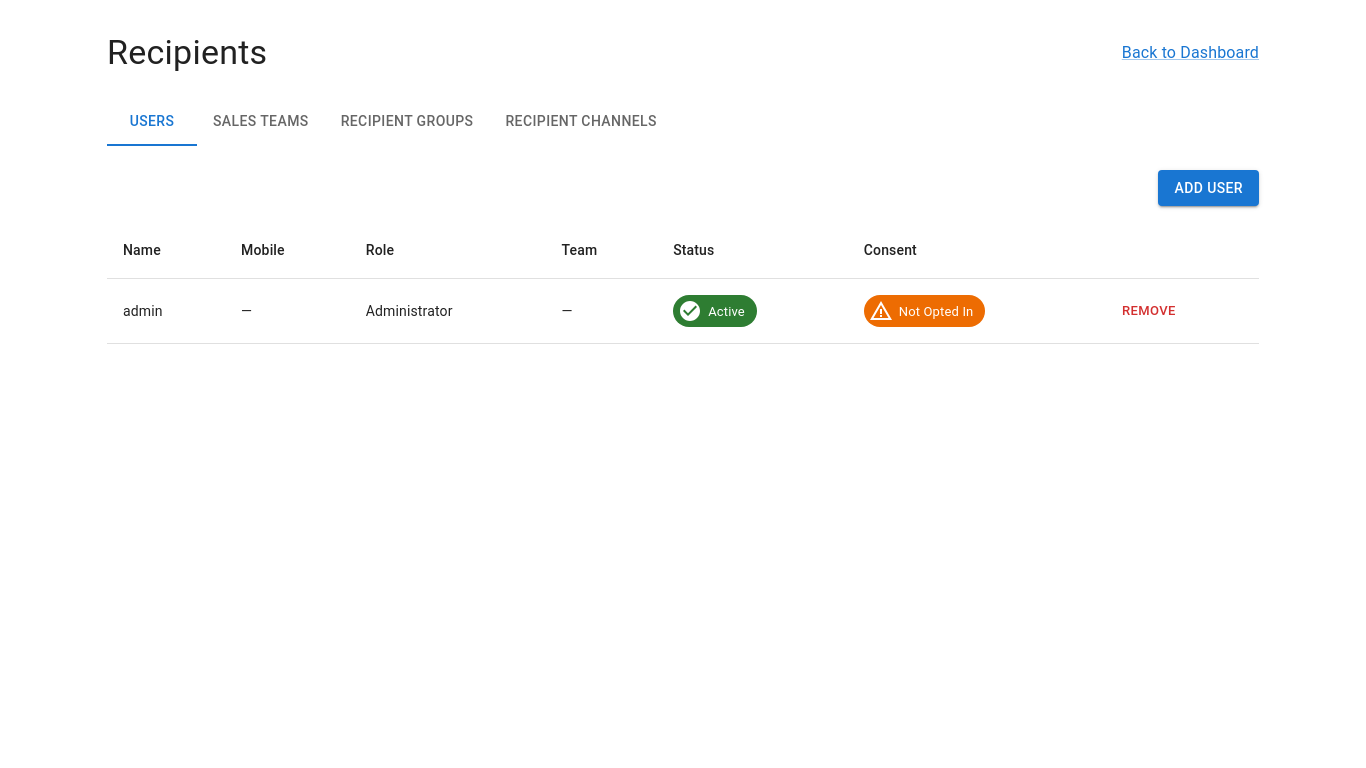
Test case: RecipientsPage › shows an inline error when removing the sole active Administrator returns 409
This screenshot has width=1366, height=768.
Check: the text "admin" is shown, box top-left (107, 279), bottom-right (225, 344)
Click the button "Remove" at (1149, 312), box top-left (1117, 296), bottom-right (1181, 327)
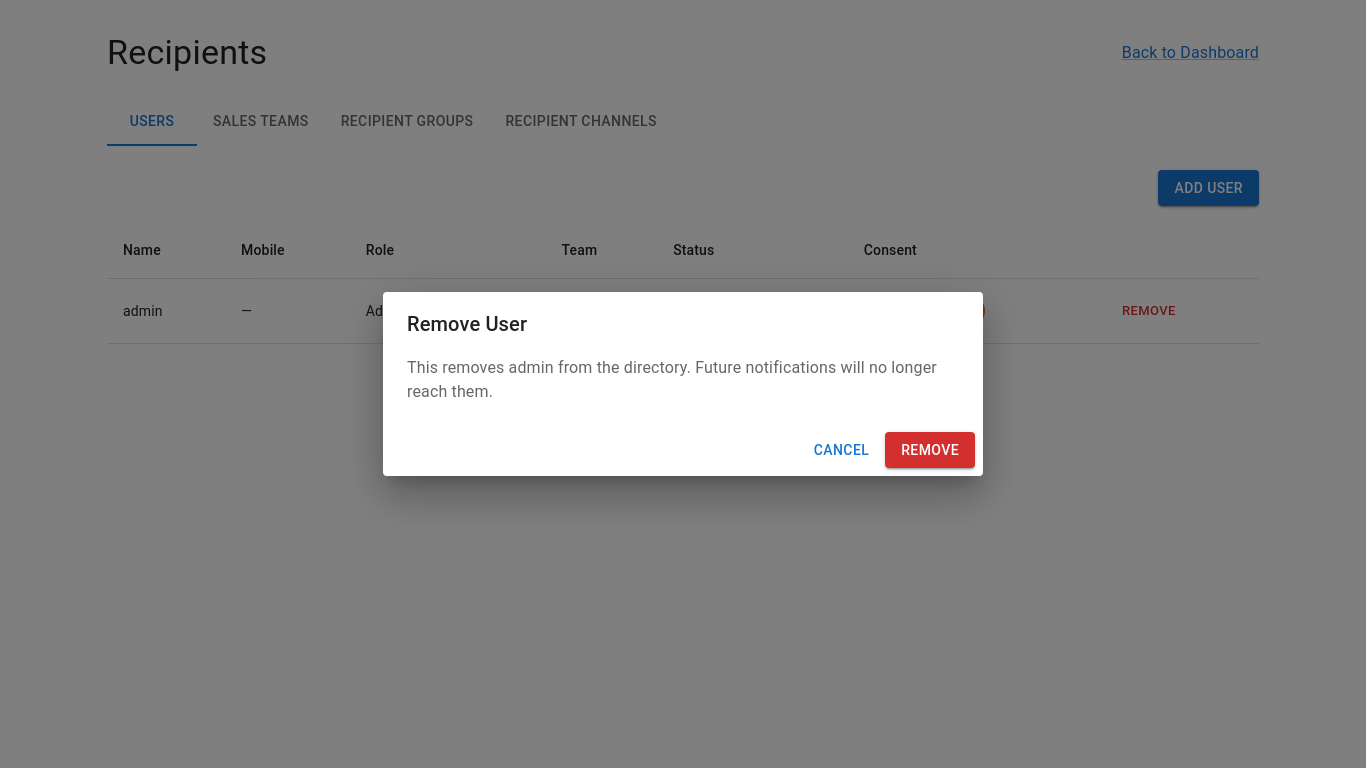
Click the button "Remove" at (930, 450), box top-left (885, 432), bottom-right (975, 468)
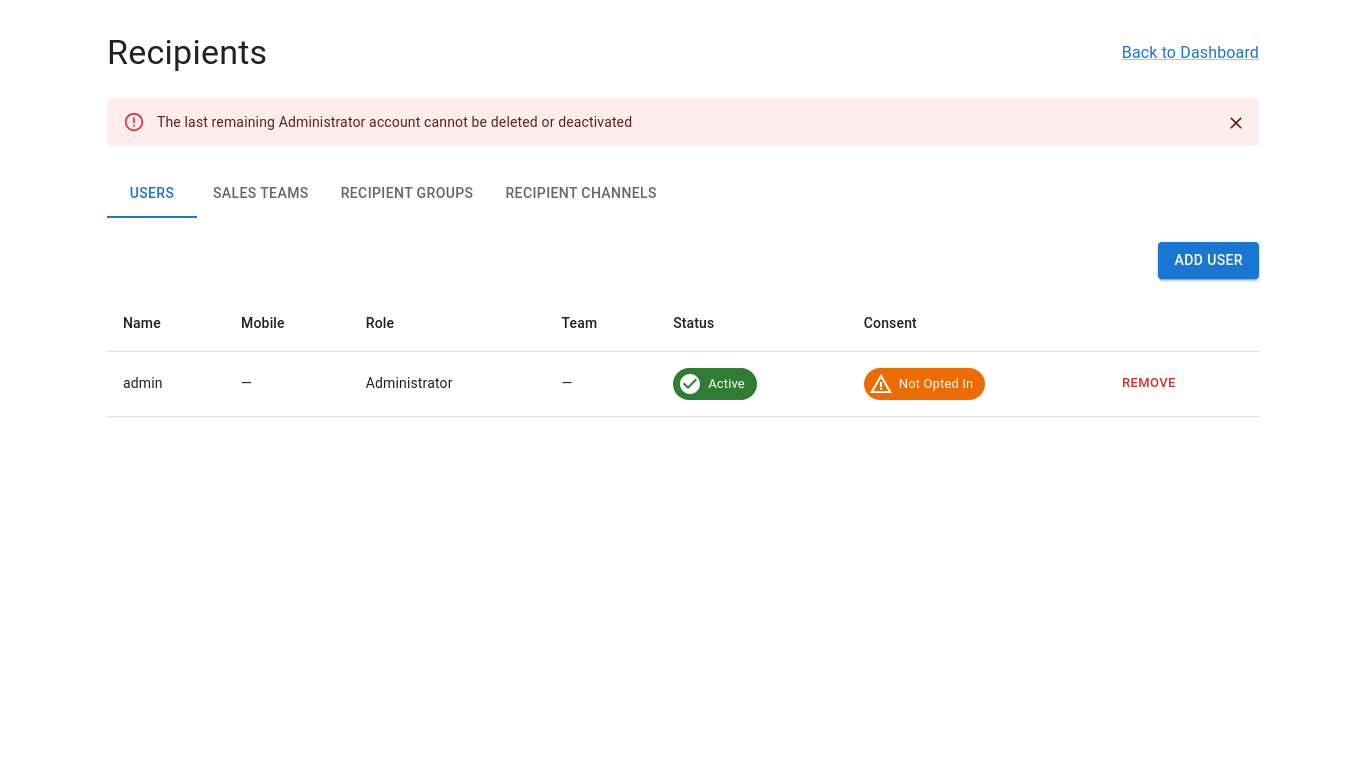
Check: the text "The last remaining Administrator account cannot be deleted or deactivated" is shown, box top-left (157, 114), bottom-right (632, 130)
